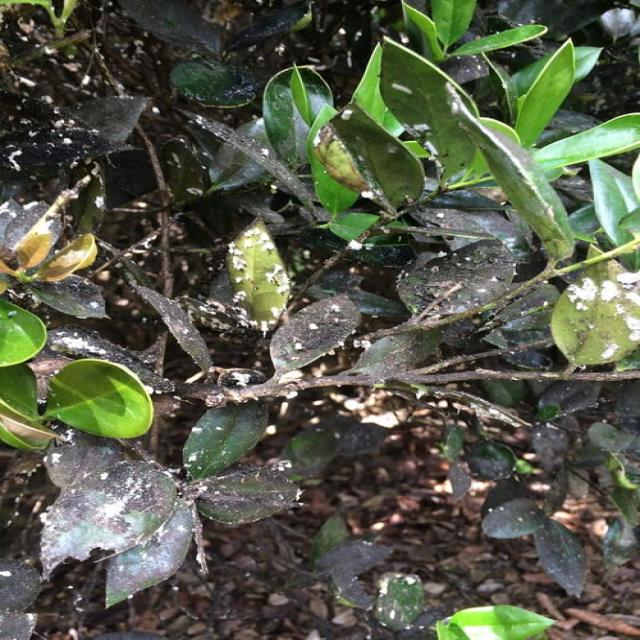Sooty Mold: (3, 2, 636, 636)
